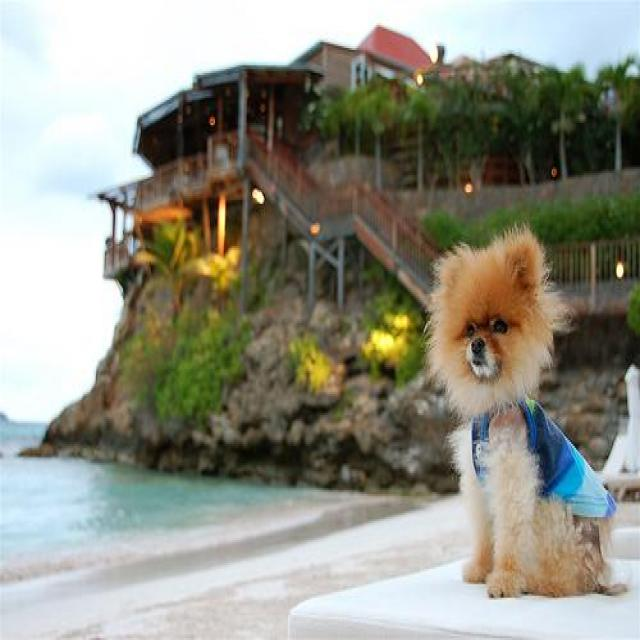sitting: (421, 222, 630, 606)
